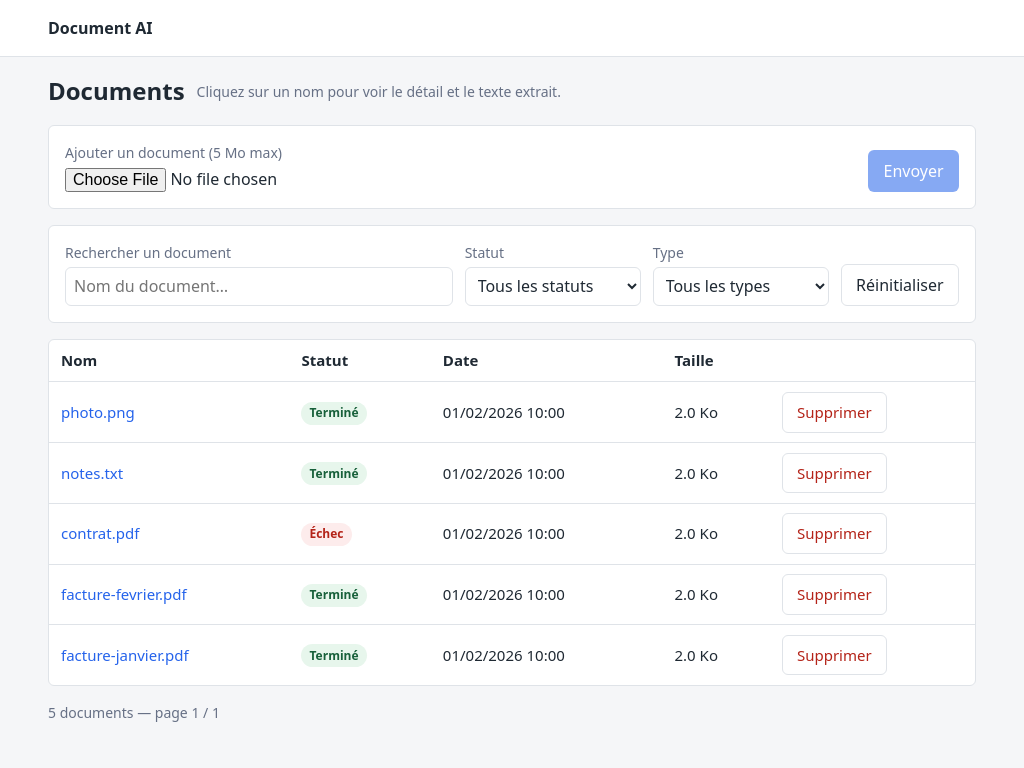
Test: Recherche et filtres de la liste des documents › recherche un document par son nom
Type "facture" into the search field with id "document-search" at [259, 287], box [65,267,453,306]
Then press Enter
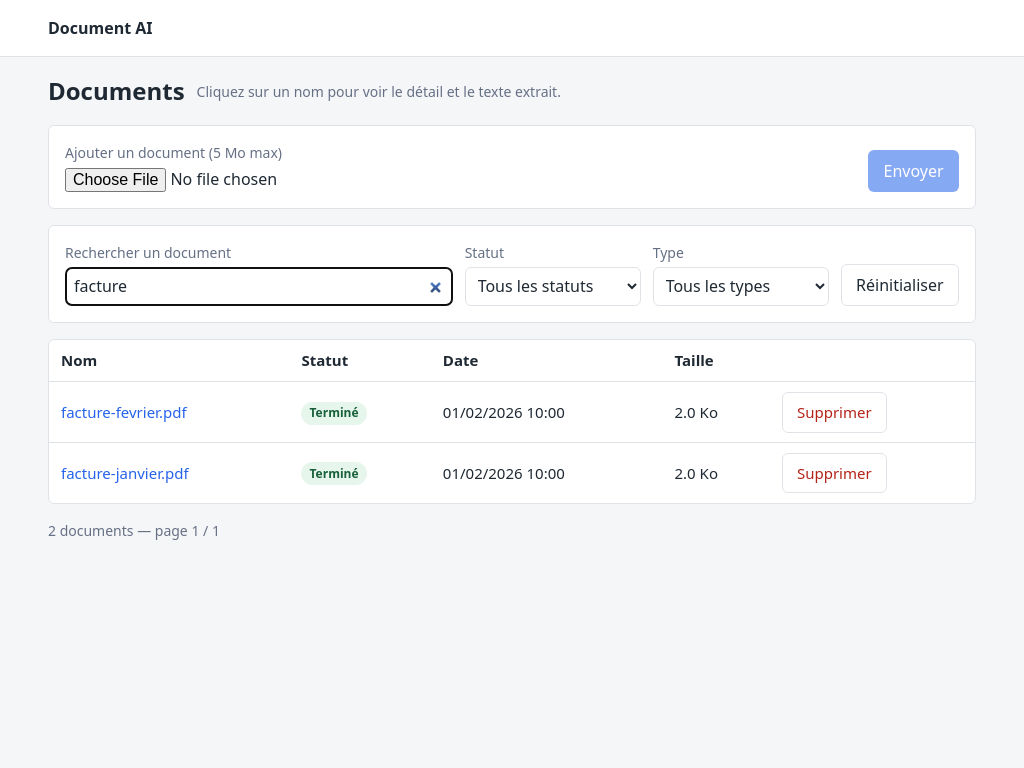
expect the text "facture-janvier.pdf" is shown: met, box [49,443,290,503]
expect the link "contrat.pdf" is gone: met
